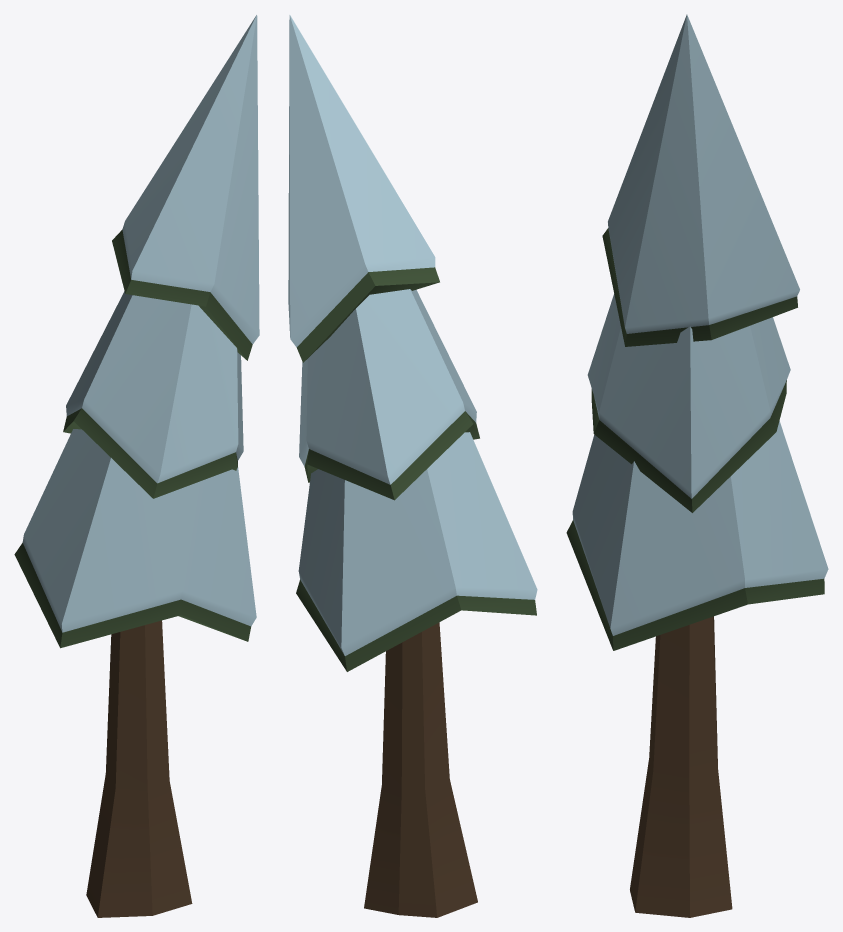
Rendered from Geo_PineSmall.fbx.
3 views of the same model, side by side, from view 1: azimuth 30°, elevation 25°; view 2: azimuth 150°, elevation 25°; view 3: azimuth 270°, elevation 25° (orthographic). The views are drawn at different scales.
Parts seen in each view (by area): view 1: PineTreeSmall_Mesh; view 2: PineTreeSmall_Mesh; view 3: PineTreeSmall_Mesh.
Part boxes in pixels (left/top/right/bottom): PineTreeSmall_Mesh: left=14, top=15, right=259, bottom=917; PineTreeSmall_Mesh: left=288, top=15, right=537, bottom=917; PineTreeSmall_Mesh: left=566, top=14, right=828, bottom=917.
Bounding box in the file's own units: 71.72 × 263 × 66.07.
